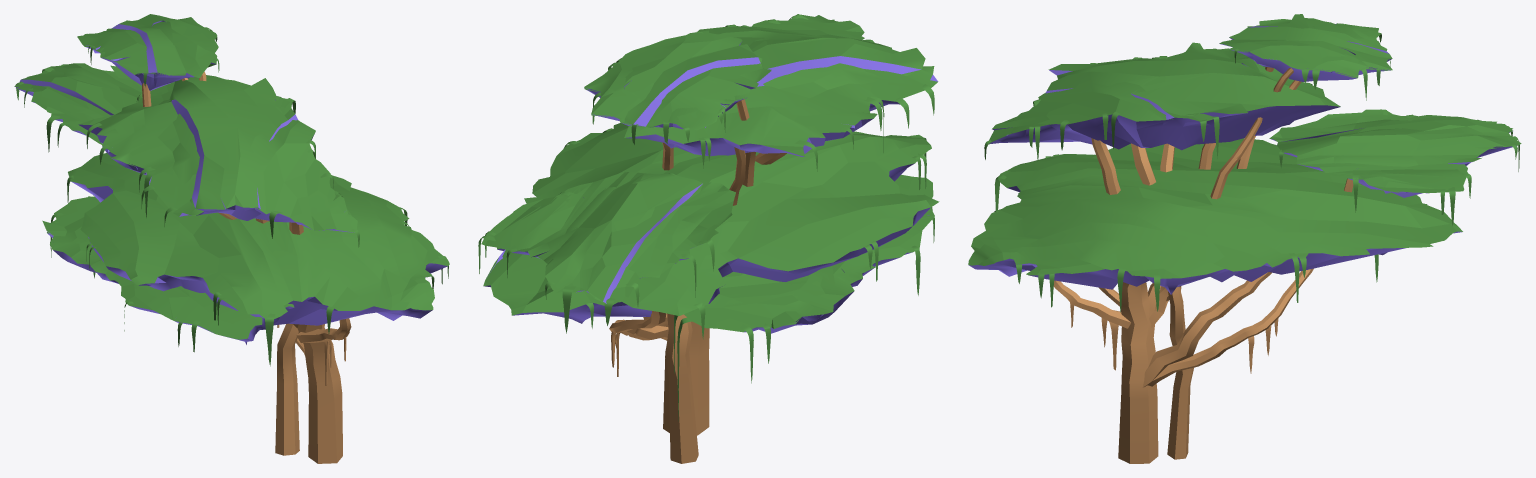
The model's file is tree_canopy_A.fbx.
3 renders of one model, left to right at view 1: azimuth 30°, elevation 25°; view 2: azimuth 150°, elevation 25°; view 3: azimuth 270°, elevation 25°, orthographic. The views are drawn at different scales.
Parts seen in each view (by area): view 1: tree_A_canopy_D, tree_A_canopy_A_holed, tree_A_canopy_A_A, tree_A_canopy_A_E, tree_A_canopy_A_trunks_bottom_A, tree_A_canopy_A_leveled, tree_A_canopy_C_holed, tree_A_canopy_A_trunks_bottom_B, tree_A_canopy_A_B_holed, tree_A_canopy_A_B, tree_A_canopy_A_B_leveled, tree_A_canopy_A_E_holed (+2 smaller); view 2: tree_A_canopy_D, tree_A_canopy_A_holed, tree_A_canopy_C_holed, tree_A_canopy_A_E, tree_A_canopy_A_A, tree_A_canopy_C_leveled, tree_A_canopy_C, tree_A_canopy_A_B, tree_A_canopy_A_B_holed, tree_A_canopy_A_B_leveled, tree_A_canopy_A_trunks_bottom_B, tree_A_canopy_A_trunks_bottom_A (+3 smaller); view 3: tree_A_canopy_D, tree_A_canopy_A_holed, tree_A_canopy_A_trunks_bottom_A, tree_A_canopy_C_holed, tree_A_canopy_A_A, tree_A_canopy_A_leveled, tree_A_canopy_C_leveled, tree_A_canopy_C, tree_A_canopy_A_trunks_middle, tree_A_canopy_A_B_holed, tree_A_canopy_A_B_leveled, tree_A_canopy_A_B (+1 smaller).
Boxes of the visible parts, <box> form: tree_A_canopy_D: <box>68,153,449,325</box>; tree_A_canopy_A_holed: <box>79,75,357,230</box>; tree_A_canopy_A_A: <box>79,75,354,232</box>; tree_A_canopy_A_E: <box>42,196,293,341</box>; tree_A_canopy_A_trunks_bottom_A: <box>293,318,351,463</box>; tree_A_canopy_A_leveled: <box>78,76,356,232</box>; tree_A_canopy_C_holed: <box>14,63,142,144</box>; tree_A_canopy_A_trunks_bottom_B: <box>275,323,299,455</box>; tree_A_canopy_A_B_holed: <box>77,14,218,78</box>; tree_A_canopy_A_B: <box>78,21,217,89</box>; tree_A_canopy_A_B_leveled: <box>77,21,218,90</box>; tree_A_canopy_A_E_holed: <box>47,197,294,344</box>; tree_A_canopy_D: <box>483,123,939,323</box>; tree_A_canopy_A_holed: <box>624,14,938,156</box>; tree_A_canopy_C_holed: <box>481,172,735,302</box>; tree_A_canopy_A_E: <box>684,175,933,333</box>; tree_A_canopy_A_A: <box>636,16,932,156</box>; tree_A_canopy_C_leveled: <box>481,172,731,303</box>; tree_A_canopy_C: <box>483,172,732,302</box>; tree_A_canopy_A_B: <box>584,41,769,128</box>; tree_A_canopy_A_B_holed: <box>584,30,771,130</box>; tree_A_canopy_A_B_leveled: <box>586,42,771,129</box>; tree_A_canopy_A_trunks_bottom_B: <box>665,313,698,463</box>; tree_A_canopy_A_trunks_bottom_A: <box>609,311,709,435</box>; tree_A_canopy_D: <box>968,138,1462,294</box>; tree_A_canopy_A_holed: <box>989,42,1340,149</box>; tree_A_canopy_A_trunks_bottom_A: <box>1053,268,1313,463</box>; tree_A_canopy_C_holed: <box>1269,109,1521,193</box>; tree_A_canopy_A_A: <box>989,49,1340,142</box>; tree_A_canopy_A_leveled: <box>990,47,1314,149</box>; tree_A_canopy_C_leveled: <box>1274,109,1516,197</box>; tree_A_canopy_C: <box>1273,110,1519,192</box>; tree_A_canopy_A_trunks_middle: <box>1091,117,1262,199</box>; tree_A_canopy_A_B_holed: <box>1219,23,1392,77</box>; tree_A_canopy_A_B_leveled: <box>1220,14,1392,81</box>; tree_A_canopy_A_B: <box>1223,14,1392,80</box>.
Size of the model in its own units: 644 by 812 by 1047.
